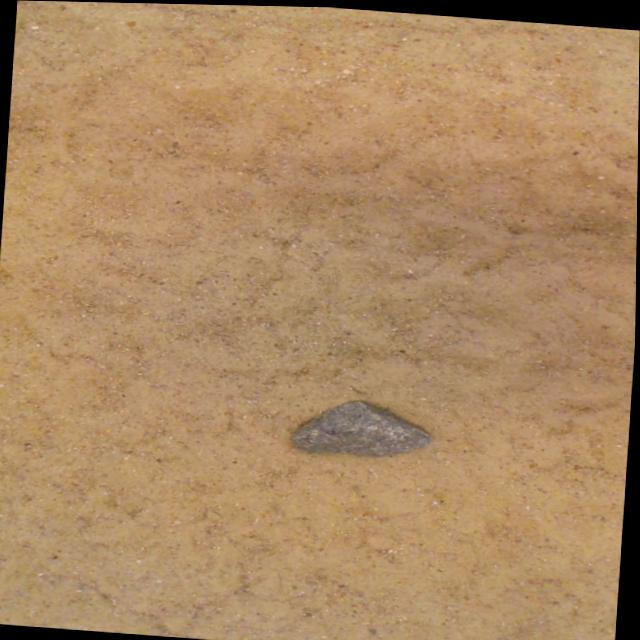rock: (292, 399, 430, 454)
